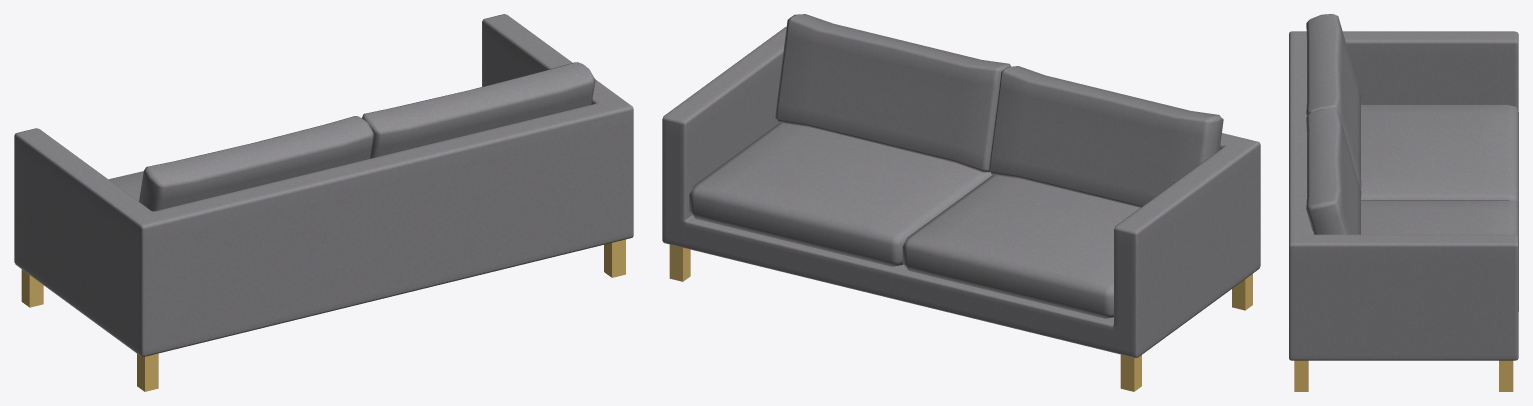
File: KARLS_Sofa.obj
The picture shows the model from 3 angles, left to right: view 1: azimuth 30°, elevation 25°; view 2: azimuth 150°, elevation 25°; view 3: azimuth 270°, elevation 25°; orthographic projection. The views are drawn at different scales.
Visible parts, largest first — view 1: polySurface8; view 2: polySurface8; view 3: polySurface8.
Boxes of the visible parts, x1,y1,x2,y2 form: polySurface8: (14,14,633,391); polySurface8: (662,14,1260,391); polySurface8: (1289,14,1518,391).
Bounding box in the file's own units: 20.5 × 8.07 × 9.32.
1 material, 1 textured.
